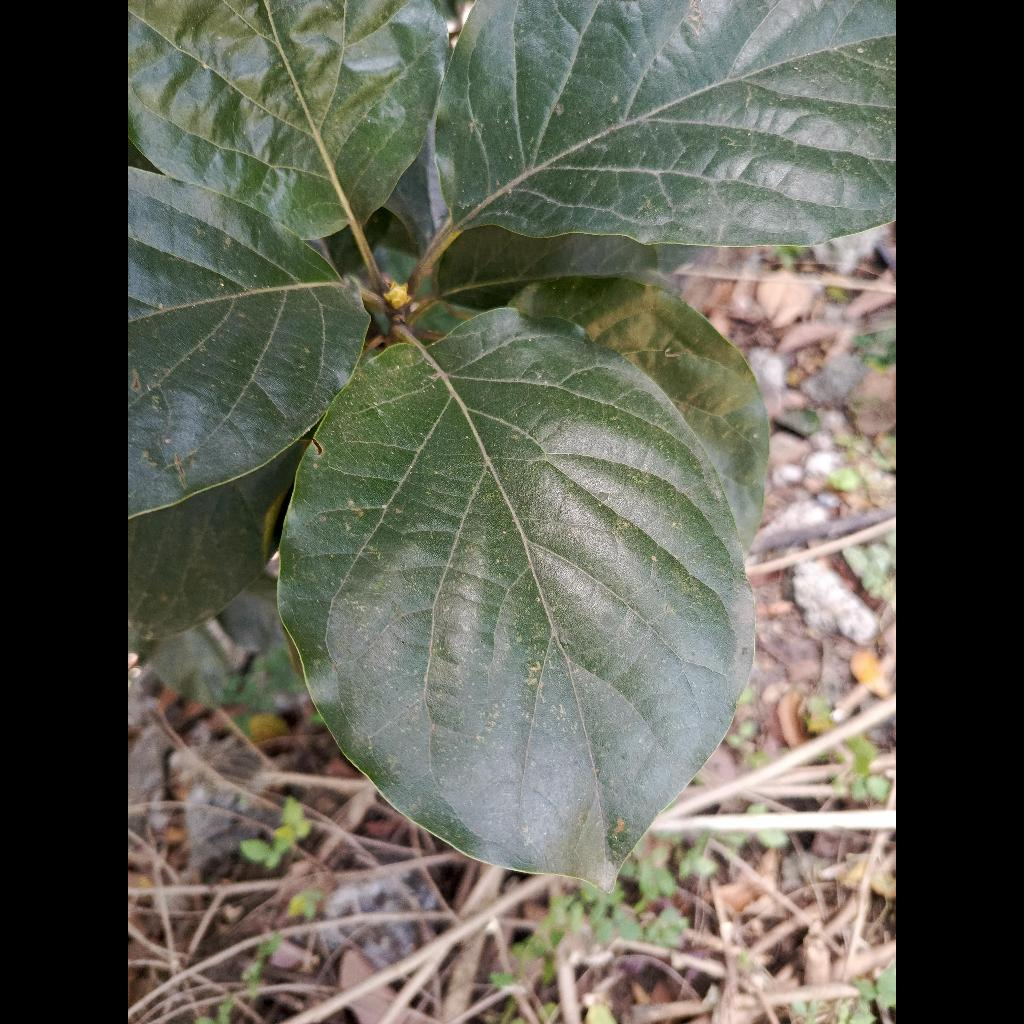Healthy: (279, 309, 754, 887)
